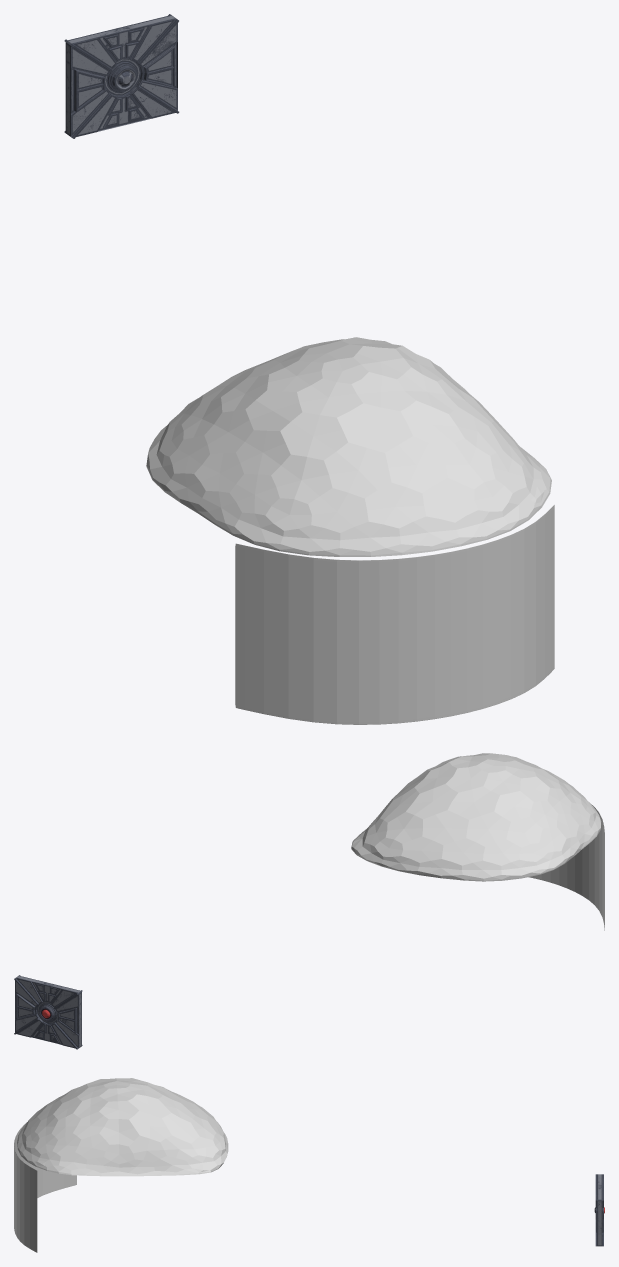
File: NewObjects.fbx
3 renders of one model, top to bottom at view 1: azimuth 30°, elevation 25°; view 2: azimuth 150°, elevation 25°; view 3: azimuth 270°, elevation 25°, orthographic. The views are drawn at different scales.
Visible parts, largest first — view 1: Up.002, TarelkaOkno, DoorBetween; view 2: Up.002, DoorBetween, TarelkaOkno; view 3: Up.002, TarelkaOkno, DoorBetween.
Part boxes in pixels (x1,y1,x2,y2): Up.002: [146, 337, 551, 556]; TarelkaOkno: [235, 505, 554, 724]; DoorBetween: [64, 14, 179, 138]; Up.002: [351, 753, 601, 881]; DoorBetween: [14, 975, 82, 1049]; TarelkaOkno: [528, 804, 604, 930]; Up.002: [17, 1078, 228, 1176]; TarelkaOkno: [14, 1124, 76, 1252]; DoorBetween: [594, 1174, 604, 1246].
Size of the model in its own units: 1076 by 608 by 2369.
